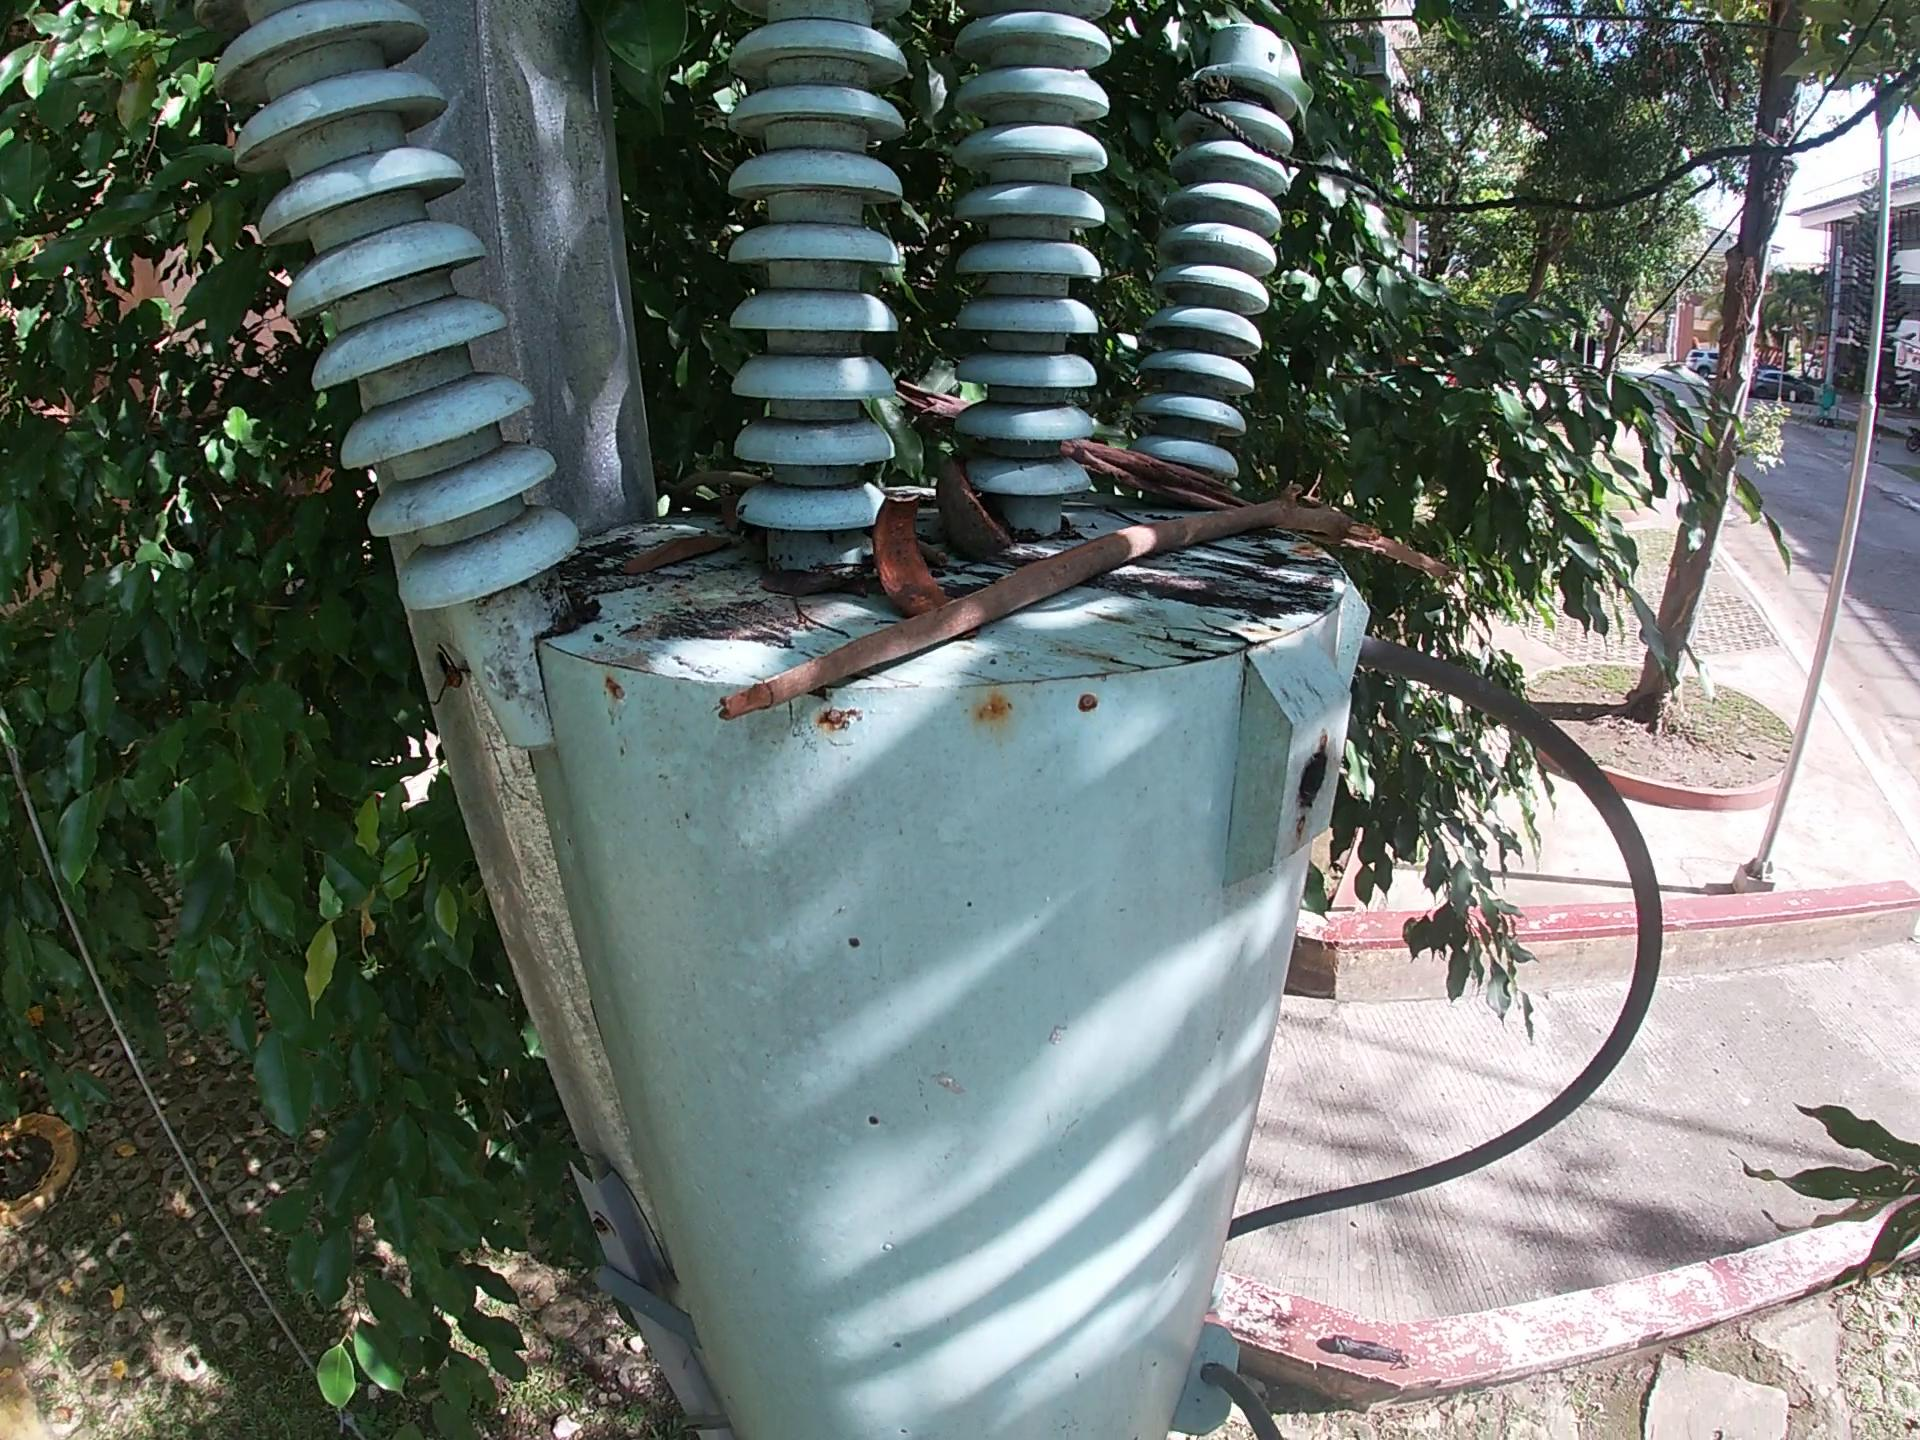leaf: (603, 528, 729, 585), (754, 558, 859, 594)
mahogany fruit: (863, 490, 931, 613), (936, 461, 1005, 557)
tree branch: (705, 483, 1612, 722), (1082, 434, 1249, 501), (881, 377, 962, 428), (785, 596, 850, 644), (668, 470, 760, 501), (1208, 545, 1281, 576), (1099, 504, 1135, 523)
